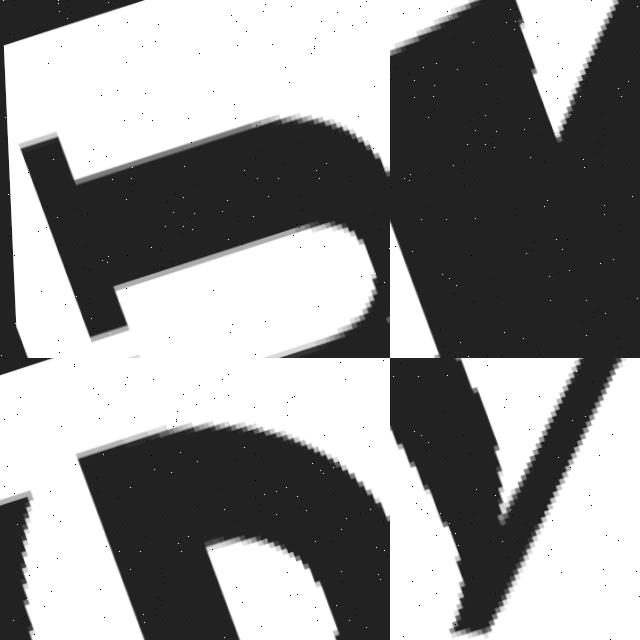E: (74, 422, 390, 640)
H: (16, 115, 390, 358)
Z: (390, 0, 640, 358), (390, 358, 640, 640)
